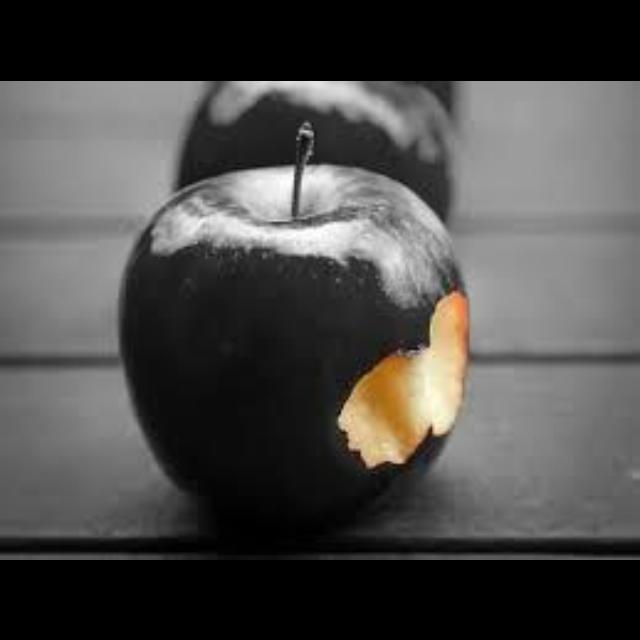apple: (119, 120, 469, 527)
scratch: (339, 290, 467, 465)
